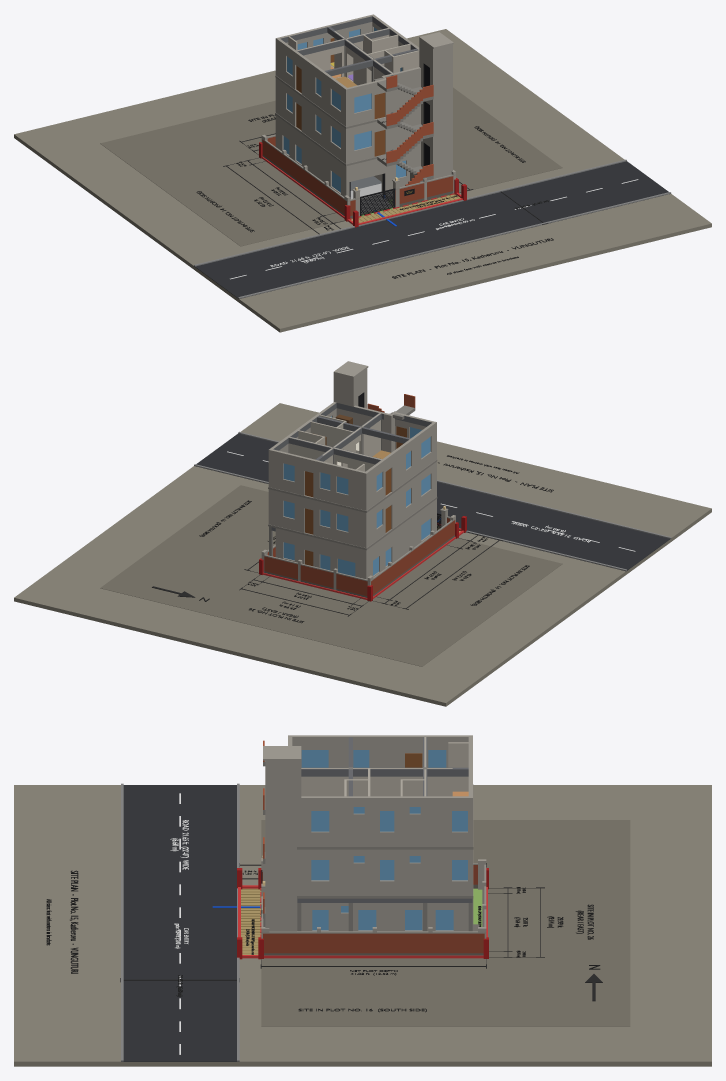
The model's file is 09_plus_stairs.glb.
The picture shows the model from 3 angles, top to bottom: view 1: azimuth 30°, elevation 25°; view 2: azimuth 150°, elevation 25°; view 3: azimuth 270°, elevation 25°; orthographic projection. The views are drawn at different scales.
Visible parts, largest first — view 1: 01_Terrain, 01_Neighbour_Plot, 05_Road, SF_Wall_Exterior, FF_Wall_Exterior, LIFT_Shaft, GF_Wall_Exterior, SF_Wall_Interior, BEAM_Roof, 05_Kerb, STAIR_Parapet, Wall_North (+9 smaller); view 2: 01_Terrain, 01_Neighbour_Plot, 05_Road, SF_Wall_Exterior, FF_Wall_Exterior, GF_Wall_Exterior, SF_Wall_Interior, BEAM_Roof, Wall_Rear, Wall_North, LIFT_Shaft, 05_Kerb (+5 smaller); view 3: 01_Terrain, 01_Neighbour_Plot, 05_Road, SF_Wall_Exterior, FF_Wall_Exterior, LIFT_Shaft, Wall_South, SF_Wall_Interior, GF_Wall_Exterior, SF_Glass, BEAM_Roof, GF_Glass (+13 smaller).
Boxes of the visible parts, x1,y1,x2,y2 form: 01_Terrain: (14, 29, 711, 332); 01_Neighbour_Plot: (100, 87, 562, 246); 05_Road: (194, 161, 670, 298); SF_Wall_Exterior: (275, 14, 420, 126); FF_Wall_Exterior: (275, 62, 420, 164); LIFT_Shaft: (419, 32, 453, 178); GF_Wall_Exterior: (275, 115, 420, 198); SF_Wall_Interior: (288, 28, 419, 85); BEAM_Roof: (280, 16, 418, 76); 05_Kerb: (194, 159, 671, 298); STAIR_Parapet: (386, 75, 433, 185); Wall_North: (262, 140, 346, 215); 01_Terrain: (14, 403, 711, 706); 01_Neighbour_Plot: (100, 485, 562, 666); 05_Road: (196, 433, 670, 571); SF_Wall_Exterior: (268, 402, 436, 510); FF_Wall_Exterior: (268, 462, 436, 547); GF_Wall_Exterior: (275, 499, 436, 579); SF_Wall_Interior: (289, 413, 381, 471); BEAM_Roof: (273, 403, 431, 464); Wall_Rear: (264, 556, 367, 597); Wall_North: (371, 520, 455, 596); LIFT_Shaft: (333, 361, 368, 408); 05_Kerb: (194, 431, 671, 570); 01_Terrain: (14, 785, 711, 1066); 01_Neighbour_Plot: (261, 820, 630, 1026); 05_Road: (121, 785, 239, 1061); SF_Wall_Exterior: (288, 735, 472, 846); FF_Wall_Exterior: (297, 849, 472, 895); LIFT_Shaft: (263, 746, 301, 931); Wall_South: (263, 933, 484, 955); SF_Wall_Interior: (301, 737, 468, 796); GF_Wall_Exterior: (297, 899, 472, 931); SF_Glass: (301, 750, 467, 831); BEAM_Roof: (301, 737, 468, 796); GF_Glass: (312, 906, 453, 930).
Bounding box in the file's own units: 36.4 × 13.67 × 38.8.
